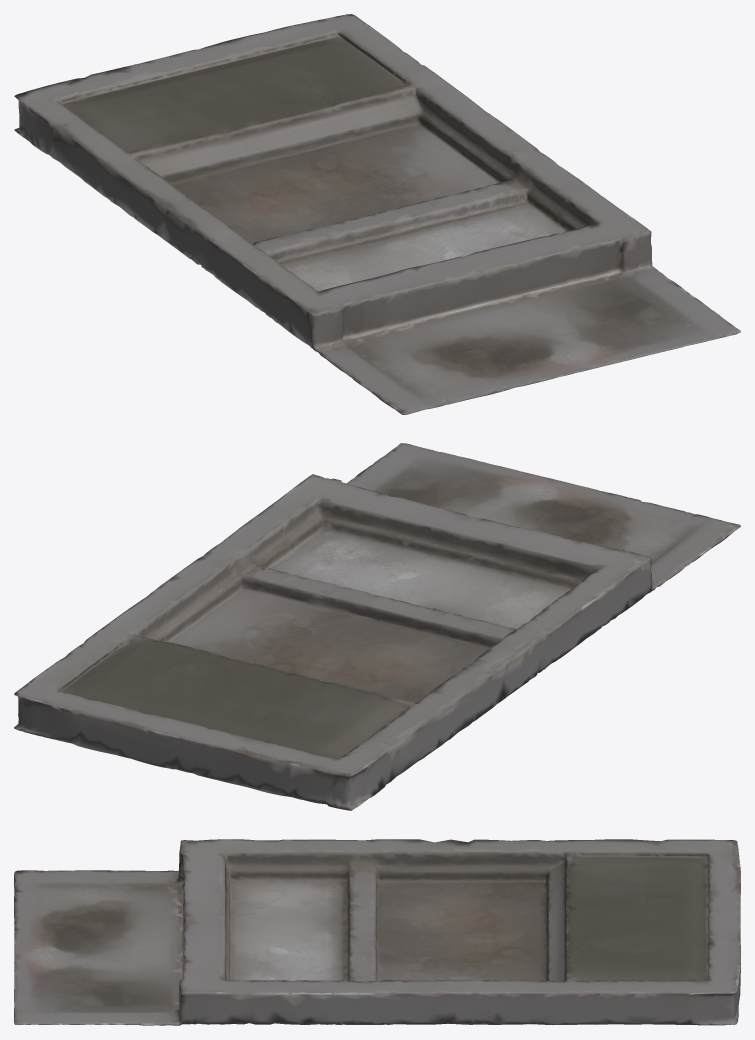
Rendered from deur-antraciet.glb.
3 views of the same model, one above another, from view 1: azimuth 30°, elevation 25°; view 2: azimuth 150°, elevation 25°; view 3: azimuth 270°, elevation 25° (orthographic). The views are drawn at different scales.
Parts seen in each view (by area): view 1: Voordeur_Modern; view 2: Voordeur_Modern; view 3: Voordeur_Modern.
Boxes of the visible parts, x1,y1,x2,y2 form: Voordeur_Modern: (14,14,740,414); Voordeur_Modern: (14,443,740,810); Voordeur_Modern: (14,839,740,1025).
Bounding box in the file's own units: 1.89 × 0.1913 × 3.78.
1 material, 1 textured.
